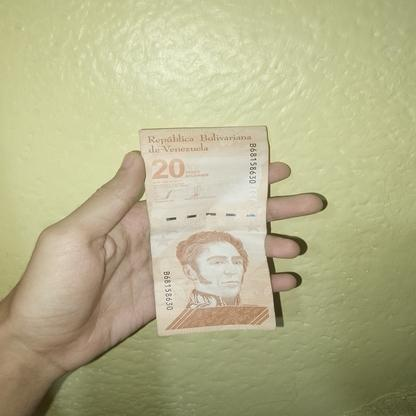twenty-front-vef: (138, 125, 276, 336)
